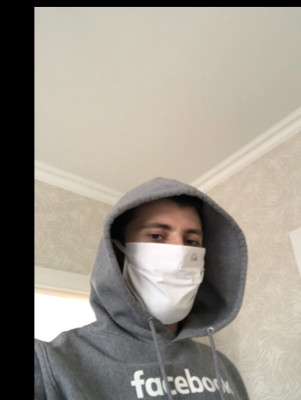with_mask: (125, 214, 206, 326)
